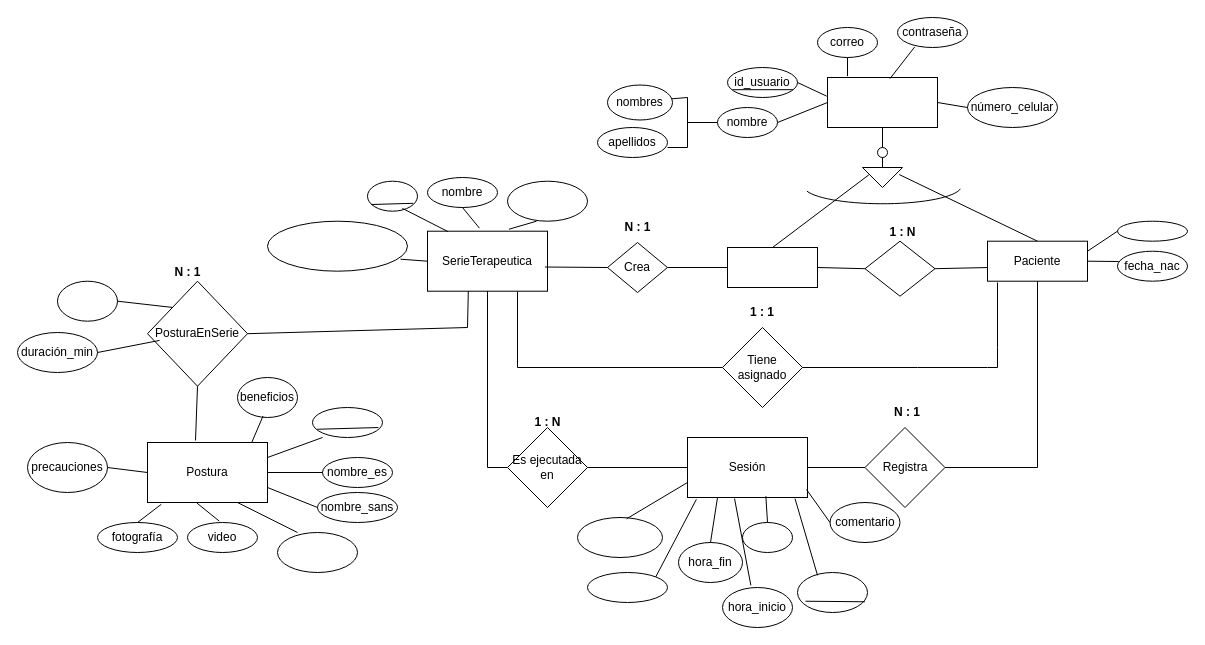
Some shapes in this 1205 by 645 pixel diagram are drawn without their labels. The box of each missing label's shape, as (x1, y1, x2, y2) in pixels:
fecha: (742, 522, 792, 552)
Gestiona: (864, 240, 935, 296)
género: (1116, 220, 1188, 241)
id_postura: (312, 406, 382, 438)
id_serie: (366, 180, 418, 211)
id_sesion: (796, 572, 868, 612)
instrucciones: (276, 532, 358, 572)
Instructor: (726, 246, 818, 288)
intensidad_final: (576, 516, 662, 558)
intensidad_inicio: (586, 572, 668, 602)
orden: (56, 280, 118, 321)
sesiones_recomendadas: (266, 220, 408, 271)
tipo_terapia: (506, 180, 588, 221)
Usuario: (826, 76, 938, 128)
